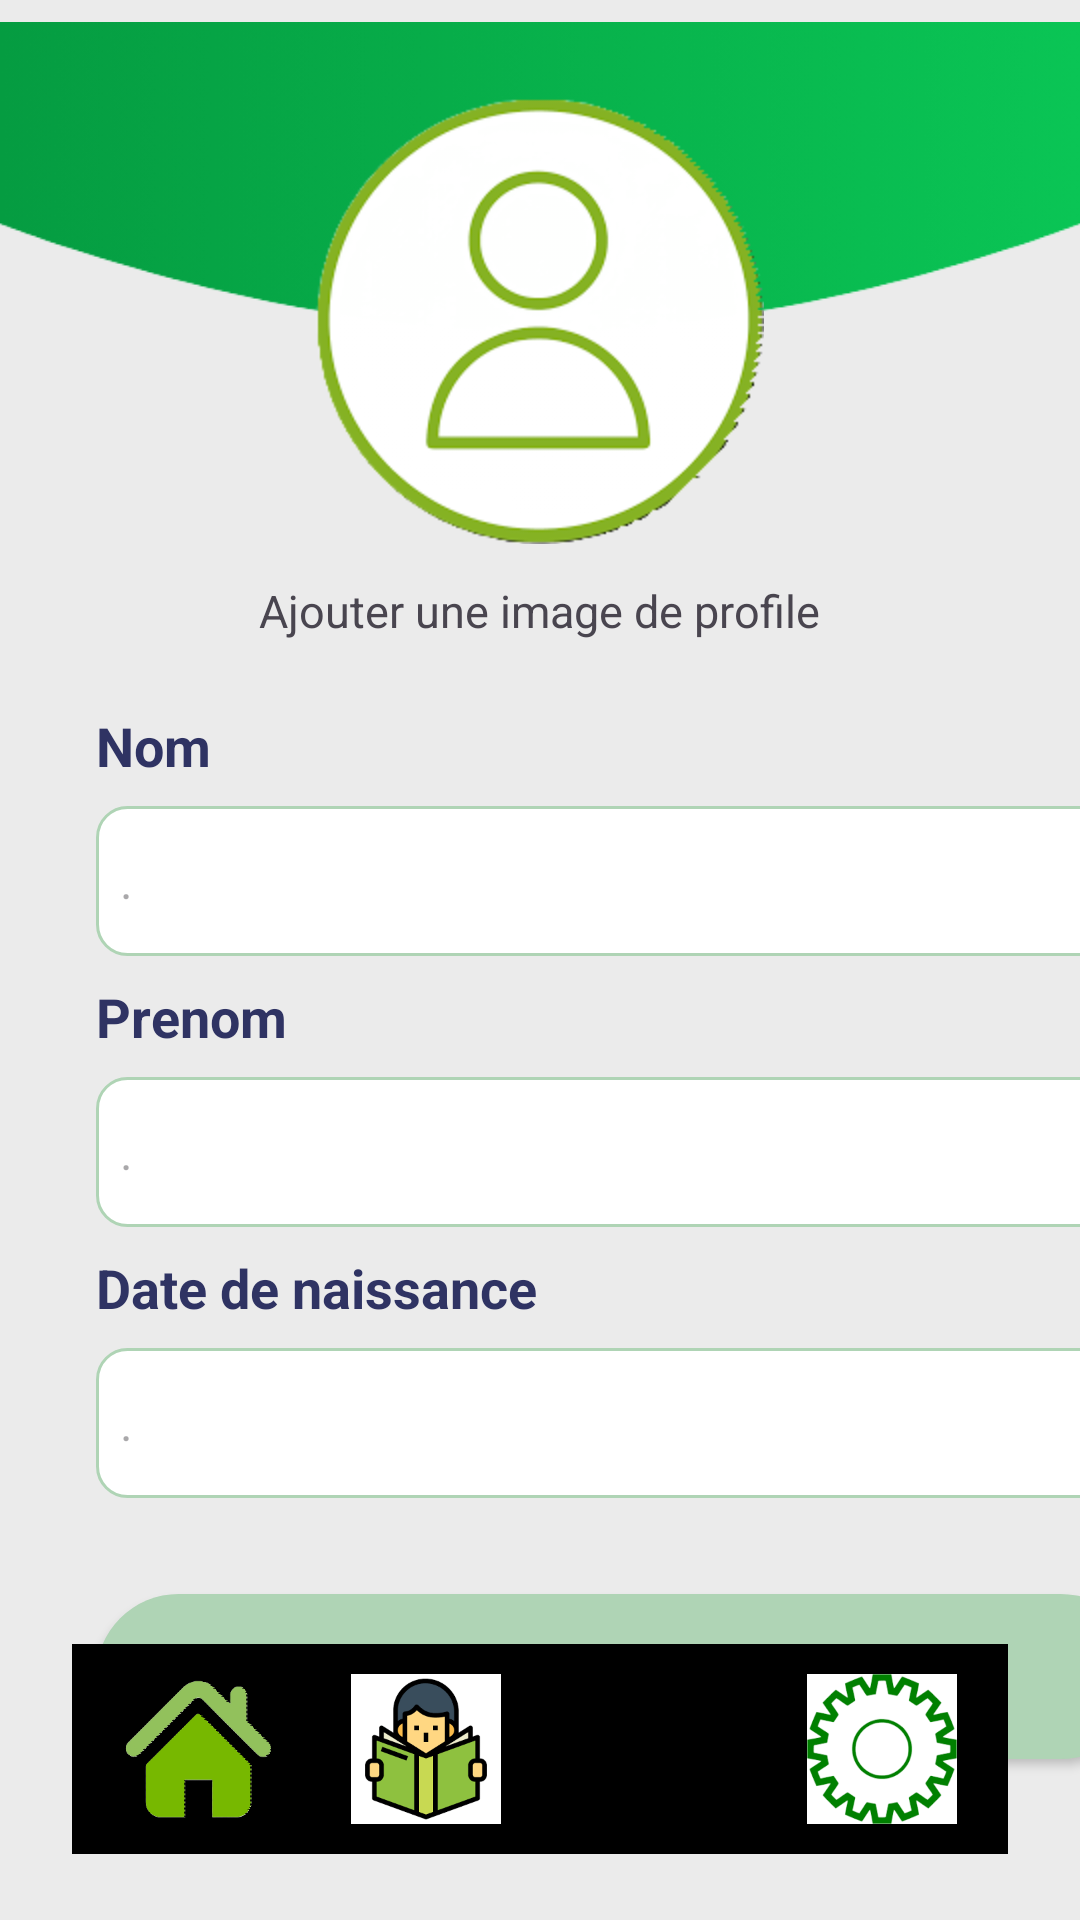

Screen size 1080×1920. Icon name, then its center in pixels as (x,y):
guide: (426,1749)
home: (198,1749)
setting: (882,1749)
